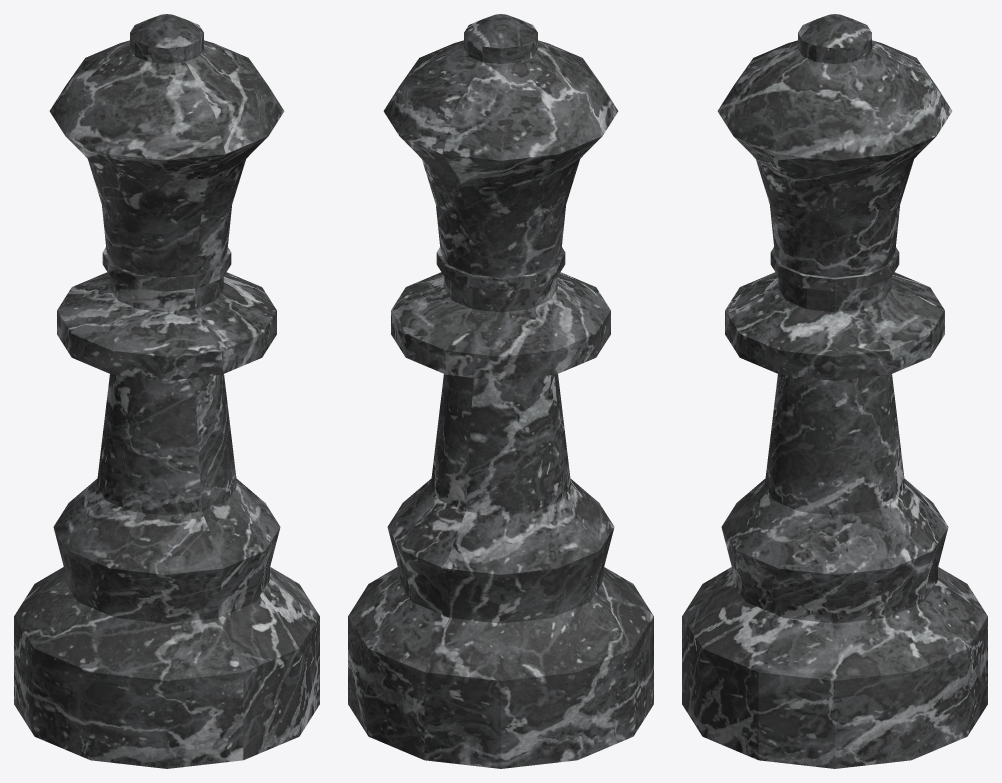
File: b_queen.glb
3 views of the same model, side by side, from view 1: azimuth 30°, elevation 25°; view 2: azimuth 150°, elevation 25°; view 3: azimuth 270°, elevation 25° (orthographic).
Visible parts, largest first — view 1: Queen; view 2: Queen; view 3: Queen.
Part boxes in pixels (x1=…): Queen: x1=14, y1=14, x2=319, y2=768; Queen: x1=348, y1=14, x2=653, y2=768; Queen: x1=682, y1=14, x2=987, y2=768.
Bounding box in the file's own units: 1.31 × 3.24 × 1.31.
Materials: 1 (1 with a texture image).
